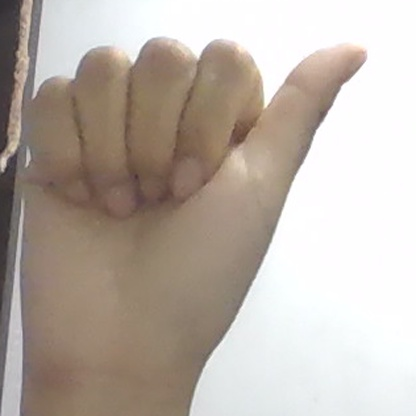A: (21, 38, 367, 375)
